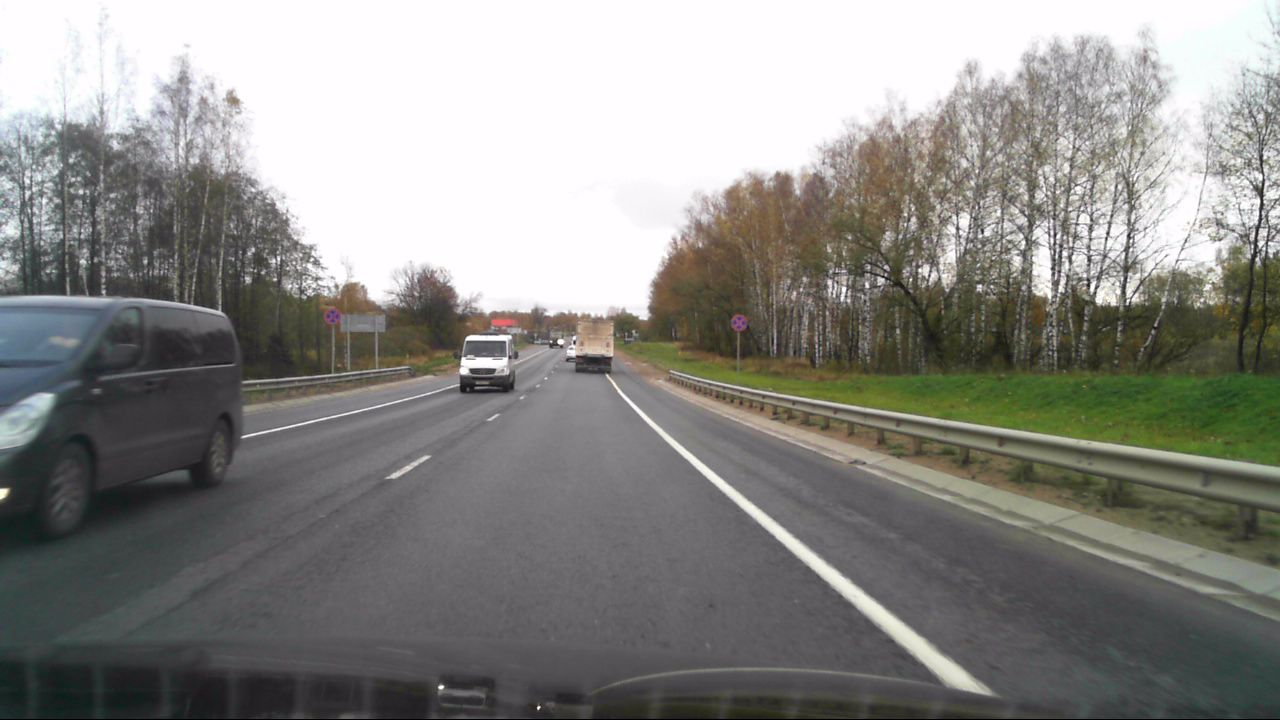No Parking: (730, 314, 748, 332)
